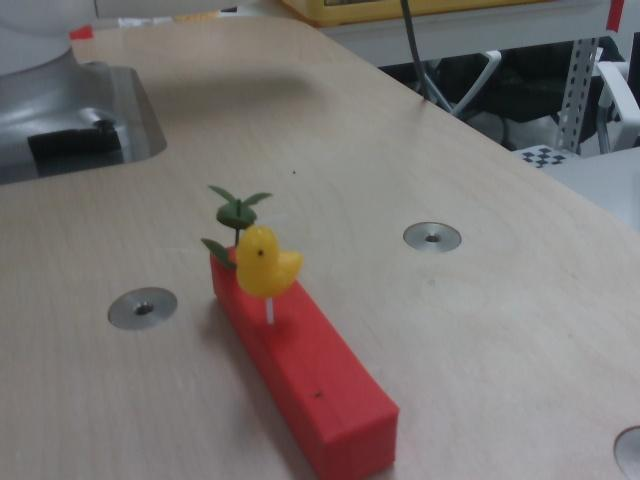leaf: (199, 179, 274, 254)
y_duck: (227, 221, 314, 310)
